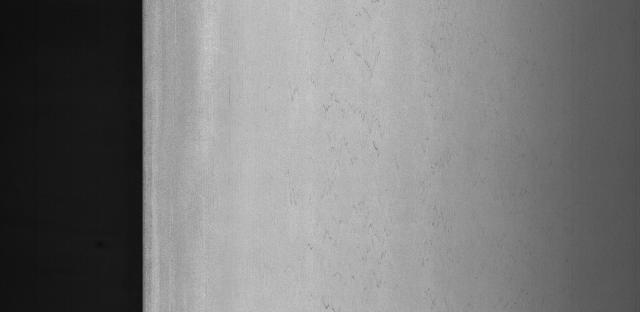silk_spot: (298, 7, 423, 311)
